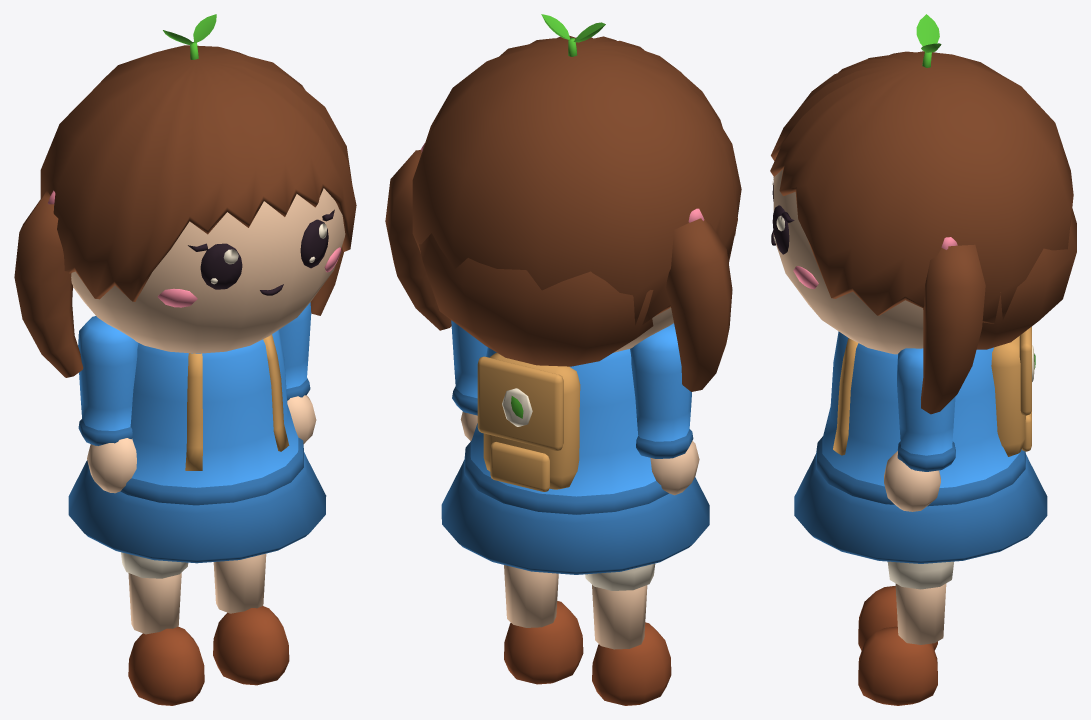
Rendered from hero-girl-teen.glb.
The picture shows the model from 3 angles, left to right: view 1: azimuth 30°, elevation 25°; view 2: azimuth 150°, elevation 25°; view 3: azimuth 270°, elevation 25°; orthographic projection. The views are drawn at different scales.
Parts seen in each view (by area): view 1: head, body, leg-left, arm-left, leg-right, arm-right, head-leaf; view 2: head, body, leg-left, arm-left, leg-right, arm-right, head-leaf; view 3: head, body, leg-right, arm-right, leg-left, head-leaf.
Boxes of the visible parts, <box> form: head: <box>14,45,356,377</box>; body: <box>68,330,326,563</box>; leg-left: <box>121,552,204,705</box>; arm-left: <box>78,316,138,493</box>; leg-right: <box>213,553,289,685</box>; arm-right: <box>279,302,316,444</box>; head-leaf: <box>163,14,216,59</box>; head: <box>385,35,741,391</box>; body: <box>441,347,709,574</box>; leg-left: <box>585,563,671,705</box>; arm-left: <box>630,323,699,495</box>; leg-right: <box>504,565,583,684</box>; arm-right: <box>451,320,487,440</box>; head-leaf: <box>541,14,605,56</box>; head: <box>770,51,1076,414</box>; body: <box>794,326,1047,563</box>; leg-right: <box>858,561,953,705</box>; arm-right: <box>884,348,955,511</box>; leg-left: <box>858,586,937,650</box>; head-leaf: <box>916,14,941,67</box>.
Bounding box in the file's own units: 1.32 × 2.51 × 1.08.
